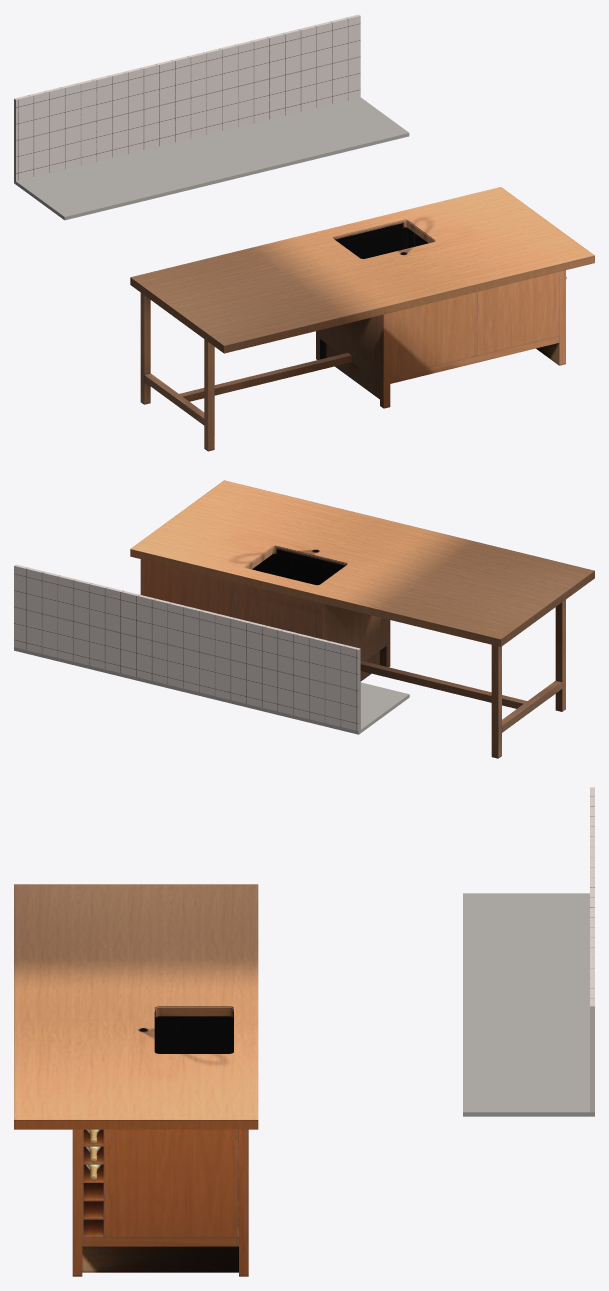
The model's file is CounterTopWood.glb.
The picture shows the model from 3 angles, top to bottom: view 1: azimuth 30°, elevation 25°; view 2: azimuth 150°, elevation 25°; view 3: azimuth 270°, elevation 25°; orthographic projection. The views are drawn at different scales.
Visible parts, largest first — view 1: Counter White, White_Kitchen_Backsplash.001, Table.001; view 2: Counter White, White_Kitchen_Backsplash.001, Table.001; view 3: Counter White, Table.001, White_Kitchen_Backsplash.001.
Part boxes in pixels (x1,y1,x2,y2): Counter White: [14, 97, 594, 353]; White_Kitchen_Backsplash.001: [14, 14, 360, 181]; Table.001: [140, 220, 565, 451]; Counter White: [14, 480, 594, 734]; White_Kitchen_Backsplash.001: [14, 564, 360, 731]; Table.001: [140, 546, 565, 758]; Counter White: [14, 884, 594, 1129]; Table.001: [72, 1007, 248, 1276]; White_Kitchen_Backsplash.001: [590, 787, 594, 1112].
Size of the model in its own units: 1.15 by 0.6008 by 1.19.
Materials: 8 (6 with a texture image).
